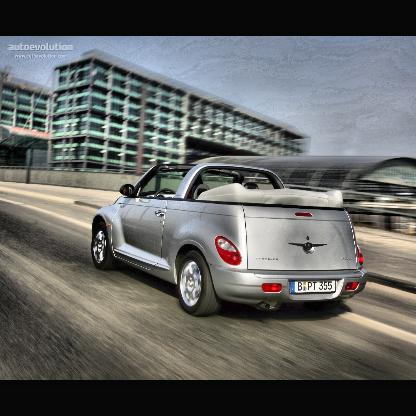Chrysler PT Cruiser Convertible 2008: (73, 144, 384, 339)
